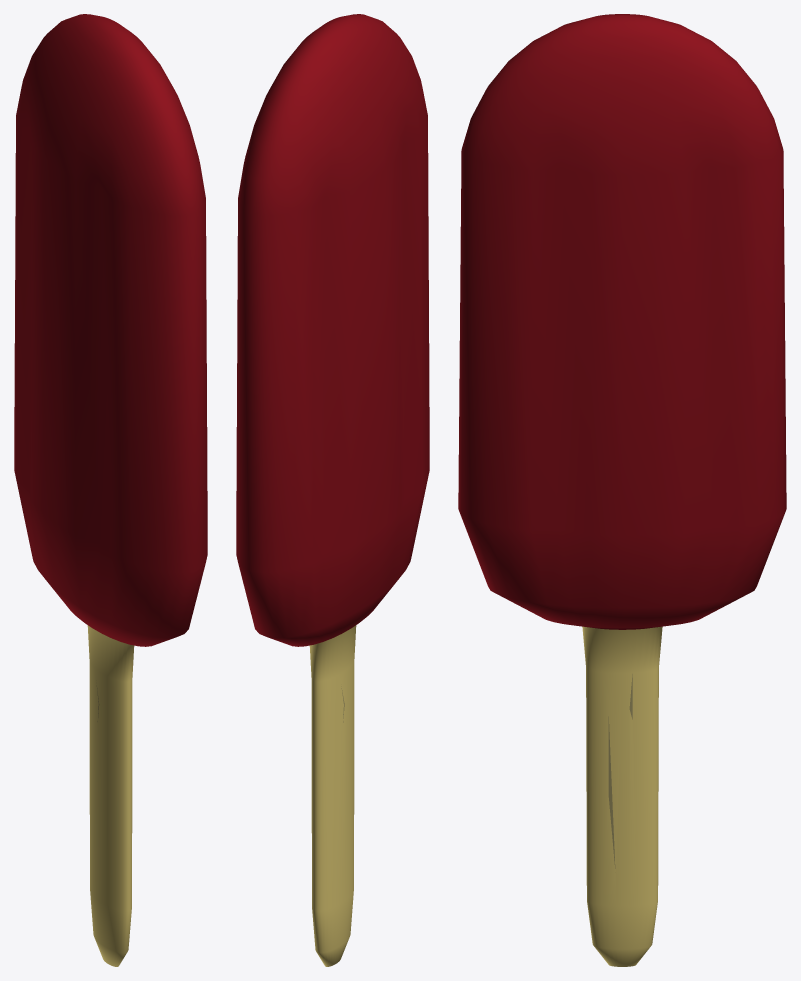
Rendered from eis_am_stiel.fbx.
3 views of the same model, side by side, from view 1: azimuth 30°, elevation 25°; view 2: azimuth 150°, elevation 25°; view 3: azimuth 270°, elevation 25° (orthographic).
Visible parts, largest first — view 1: Sphere; view 2: Sphere; view 3: Sphere.
Part boxes in pixels (box(x1,y1,x2,y2)): Sphere: box(14, 14, 207, 966); Sphere: box(236, 14, 429, 966); Sphere: box(458, 14, 786, 966).
Bounding box in the file's own units: 67.59 × 571 × 179.
